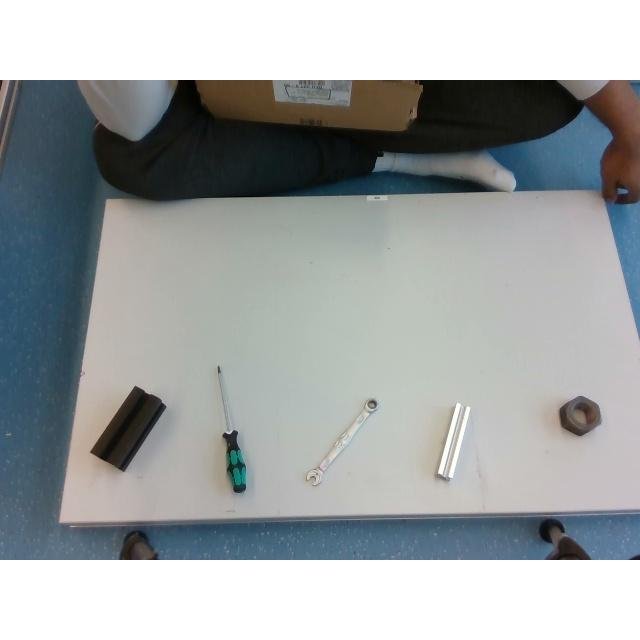F20_20_G: (436, 402, 470, 478)
M30: (559, 396, 601, 436)
S40_40_B: (91, 386, 165, 469)
Screwdriver: (218, 366, 246, 494)
Wrench: (305, 398, 379, 486)
